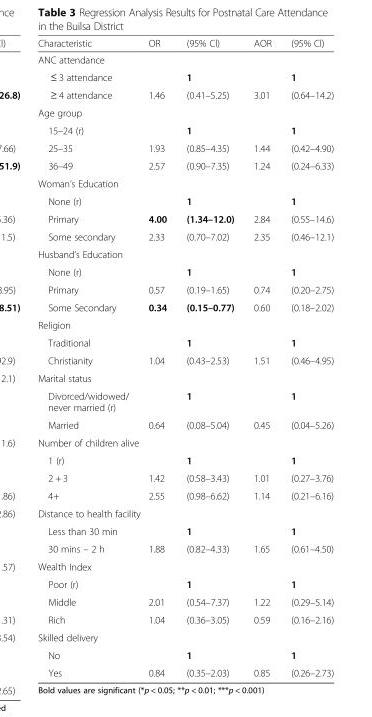table: (37, 37, 333, 678)
table column: (37, 37, 137, 678), (175, 37, 243, 678), (280, 37, 333, 678), (137, 37, 175, 678), (243, 37, 280, 678)
table column header: (37, 37, 333, 50)
table projected row header: (37, 103, 333, 121), (37, 315, 333, 333), (37, 368, 333, 386), (37, 433, 333, 451), (37, 557, 333, 575), (37, 50, 333, 67), (37, 174, 333, 191), (37, 245, 333, 262), (37, 504, 333, 521), (37, 628, 333, 645)
table row: (37, 386, 333, 415), (37, 67, 333, 85), (37, 85, 333, 103), (37, 103, 333, 121), (37, 138, 333, 156), (37, 156, 333, 174), (37, 191, 333, 209), (37, 209, 333, 227), (37, 227, 333, 245), (37, 262, 333, 280), (37, 280, 333, 298), (37, 315, 333, 333), (37, 333, 333, 351), (37, 368, 333, 386), (37, 415, 333, 433), (37, 433, 333, 451), (37, 468, 333, 486), (37, 486, 333, 504), (37, 521, 333, 539), (37, 539, 333, 557), (37, 557, 333, 575), (37, 592, 333, 610), (37, 610, 333, 628), (37, 645, 333, 663), (37, 50, 333, 67), (37, 121, 333, 138), (37, 174, 333, 191), (37, 245, 333, 262), (37, 298, 333, 315), (37, 351, 333, 368), (37, 451, 333, 468), (37, 504, 333, 521), (37, 575, 333, 592), (37, 628, 333, 645), (37, 663, 333, 678), (37, 37, 333, 50)
